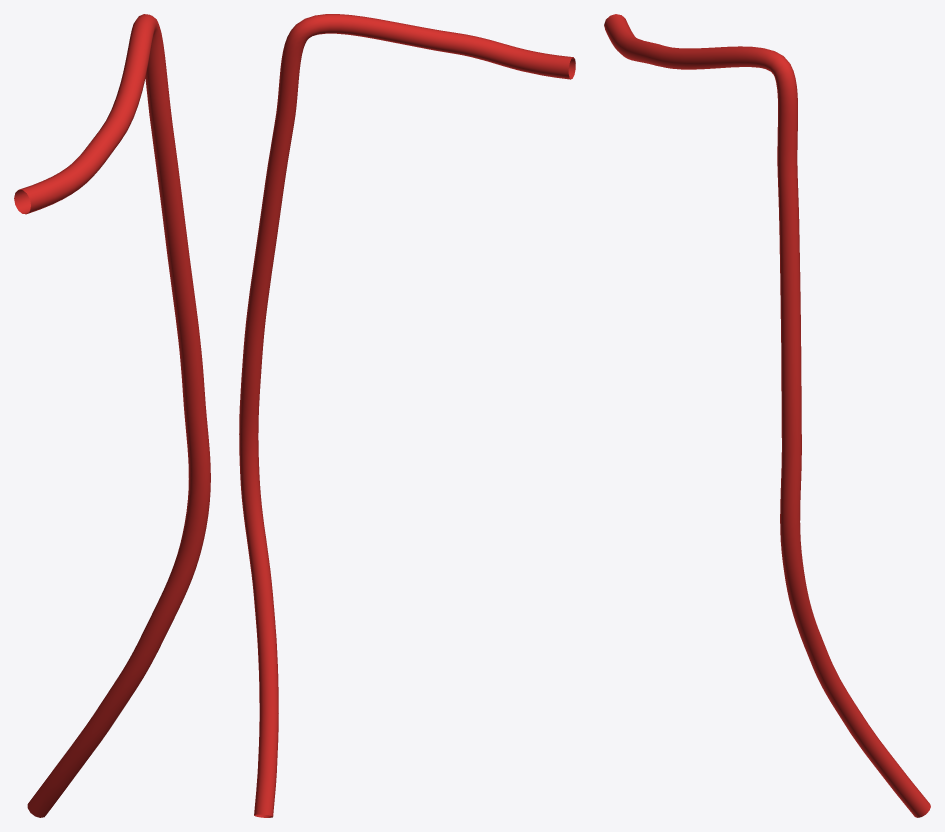
File: circulatorio-septal-branches-of-posterior-ethmoidal-artery-r.glb
3 renders of one model, left to right at view 1: azimuth 30°, elevation 25°; view 2: azimuth 150°, elevation 25°; view 3: azimuth 270°, elevation 25°, orthographic. The views are drawn at different scales.
Visible parts, largest first — view 1: Septal branches of posterior ethmoidal artery.r; view 2: Septal branches of posterior ethmoidal artery.r; view 3: Septal branches of posterior ethmoidal artery.r.
Part boxes in pixels (x1,y1,x2,y2): Septal branches of posterior ethmoidal artery.r: (14,14,210,817); Septal branches of posterior ethmoidal artery.r: (239,14,575,817); Septal branches of posterior ethmoidal artery.r: (604,14,930,817).
Bounding box in the file's own units: 0.00893 × 0.0255 × 0.00977.
